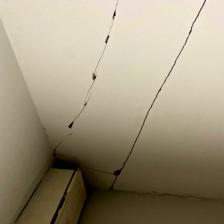Medium: (78, 6, 200, 175)
